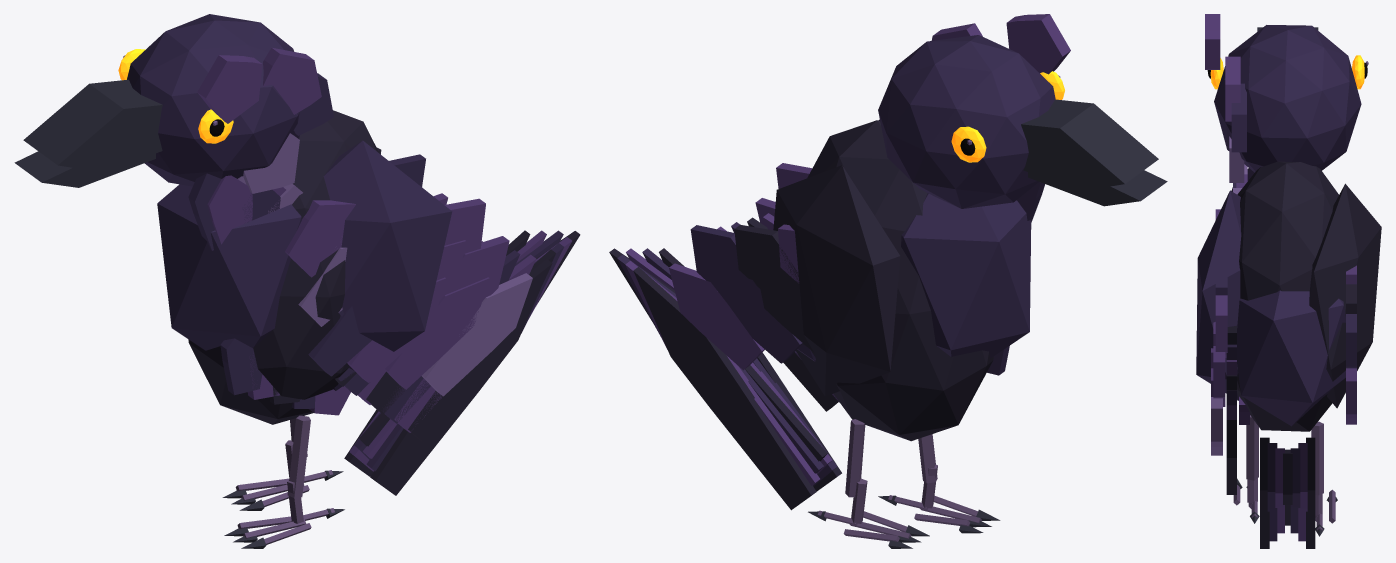
The model's file is narra-raven.glb.
3 renders of one model, left to right at view 1: azimuth 30°, elevation 25°; view 2: azimuth 150°, elevation 25°; view 3: azimuth 270°, elevation 25°, orthographic. The views are drawn at different scales.
Parts seen in each view (by area): view 1: WingMass, Skull, Chest, BodyCore, UPPER_BEAK, Covert_2_3, Covert_2_2, TailFeather_0, BrowFeather, Covert_0_0, Primary_6, HeadLayer0 (+21 smaller); view 2: Skull, WingBackMass, BodyCore, Chest, TailFeather_6, UPPER_BEAK, BackCovert_1_3, BackCovert_0_2, BackCovert_1_2, BrowFeather, BackCovert_0_3, LowerBillMesh (+11 smaller); view 3: Skull, BodyCore, Rump, WingBackMass, WingMass, TailFeather_6, TailFeather_0, HeadLayer1, TailFeather_1, BrowFeather, HeadLayer0, Primary_6 (+15 smaller).
Boxes of the visible parts, bbox=[...] form: WingMass: bbox=[323, 140, 452, 390]; Skull: bbox=[127, 14, 299, 186]; Chest: bbox=[157, 184, 301, 350]; BodyCore: bbox=[188, 110, 379, 424]; UPPER_BEAK: bbox=[23, 79, 162, 172]; Covert_2_3: bbox=[422, 273, 532, 396]; Covert_2_2: bbox=[384, 277, 489, 389]; TailFeather_0: bbox=[370, 249, 555, 495]; BrowFeather: bbox=[197, 55, 262, 123]; Covert_0_0: bbox=[285, 200, 355, 277]; Primary_6: bbox=[408, 259, 552, 442]; HeadLayer0: bbox=[263, 47, 321, 114]; Skull: bbox=[878, 35, 1055, 208]; WingBackMass: bbox=[773, 165, 900, 396]; BodyCore: bbox=[807, 120, 993, 441]; Chest: bbox=[901, 193, 1031, 358]; TailFeather_6: bbox=[633, 267, 816, 510]; UPPER_BEAK: bbox=[1021, 99, 1158, 191]; BackCovert_1_3: bbox=[669, 263, 764, 370]; BackCovert_0_2: bbox=[734, 224, 800, 312]; BackCovert_1_2: bbox=[712, 267, 802, 363]; BrowFeather: bbox=[1006, 14, 1070, 74]; BackCovert_0_3: bbox=[690, 225, 760, 319]; LowerBillMesh: bbox=[1028, 170, 1167, 206]; Skull: bbox=[1214, 25, 1361, 172]; BodyCore: bbox=[1237, 161, 1338, 431]; Rump: bbox=[1237, 290, 1345, 426]; WingBackMass: bbox=[1309, 183, 1381, 408]; WingMass: bbox=[1196, 190, 1241, 400]; TailFeather_6: bbox=[1306, 437, 1315, 548]; TailFeather_0: bbox=[1260, 437, 1269, 548]; HeadLayer1: bbox=[1231, 83, 1246, 152]; TailFeather_1: bbox=[1267, 443, 1277, 541]; BrowFeather: bbox=[1205, 14, 1220, 69]; HeadLayer0: bbox=[1225, 56, 1240, 121]; Primary_6: bbox=[1226, 420, 1236, 494].
Bounding box in the file's own units: 4.42 × 3.95 × 1.46.
